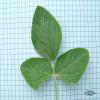Soyabean leaf: (31, 5, 62, 62), (55, 47, 90, 84), (19, 58, 53, 91)
